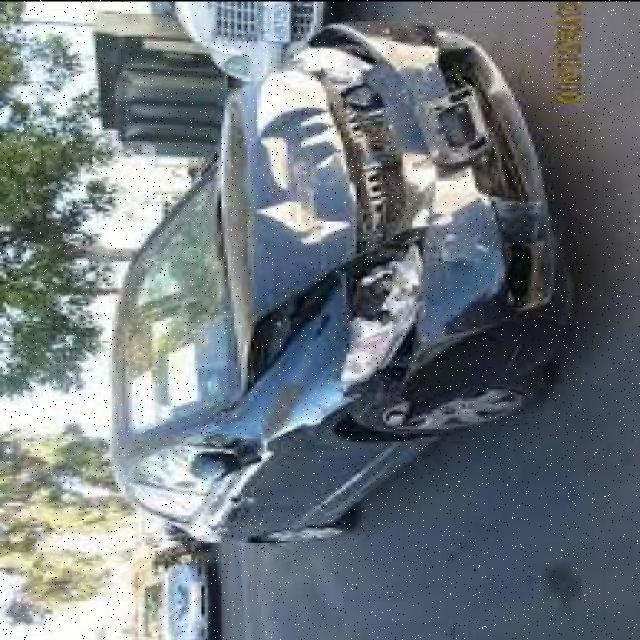damage: (226, 18, 552, 407)
